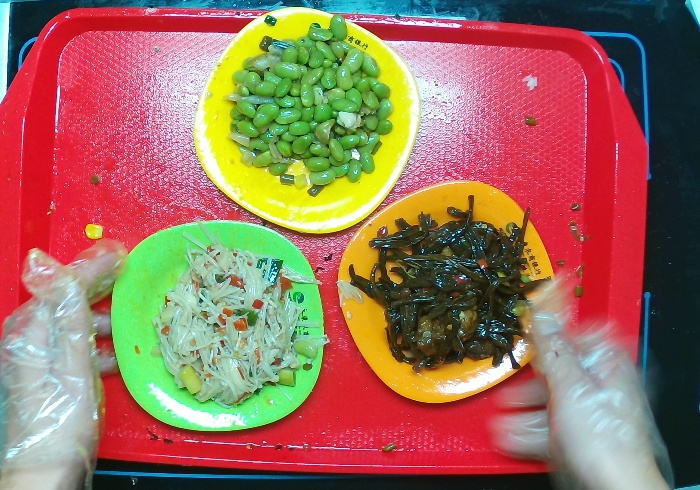YKMZ-Huang_Se_Fang_Die: (184, 1, 425, 247)
YKMZ-Ju_Se_Fang_Die: (331, 172, 577, 408)
YKMZ-Lv_Se_Fang_Die: (106, 206, 332, 443)
